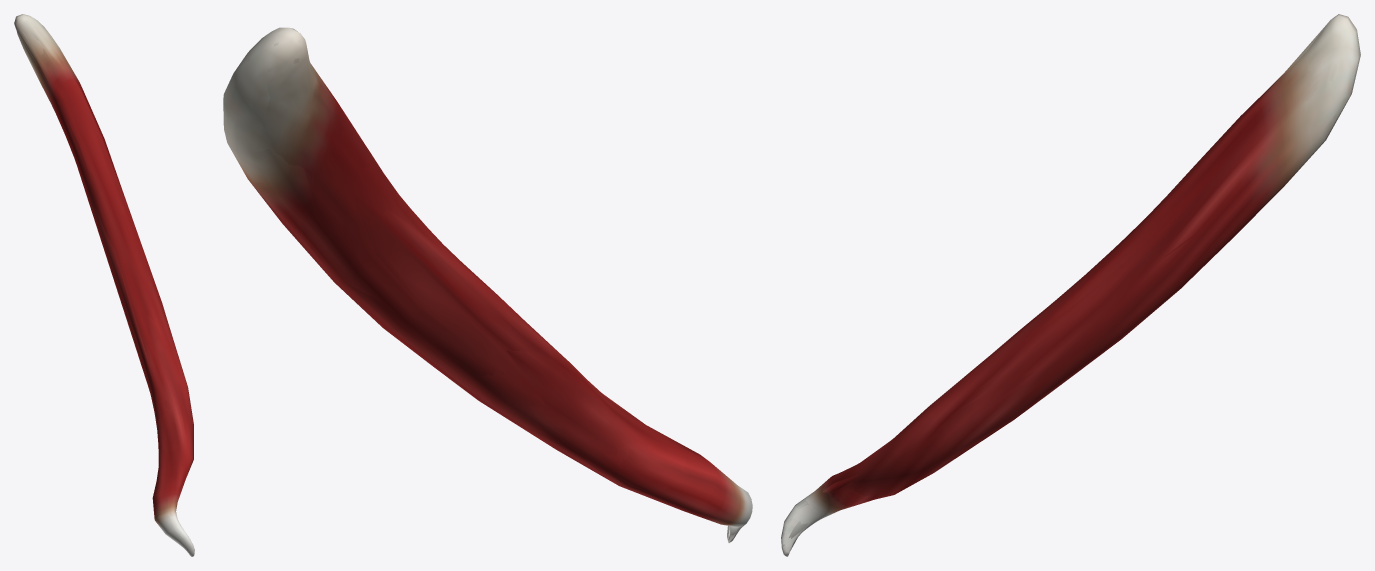
The model's file is L Teres Major.fbx.
The picture shows the model from 3 angles, left to right: view 1: azimuth 30°, elevation 25°; view 2: azimuth 150°, elevation 25°; view 3: azimuth 270°, elevation 25°; orthographic projection. The views are drawn at different scales.
Parts seen in each view (by area): view 1: L Teres Major, L Teres Major low, L Teres Major high; view 2: L Teres Major, L Teres Major low, L Teres Major high; view 3: L Teres Major, L Teres Major low, L Teres Major high.
Boxes of the visible parts, x1=… form: L Teres Major: x1=14, y1=14, x2=194, y2=556; L Teres Major low: x1=14, y1=16, x2=192, y2=545; L Teres Major high: x1=16, y1=18, x2=191, y2=550; L Teres Major: x1=223, y1=27, x2=752, y2=542; L Teres Major low: x1=227, y1=29, x2=745, y2=542; L Teres Major high: x1=225, y1=30, x2=744, y2=538; L Teres Major: x1=781, y1=14, x2=1360, y2=556; L Teres Major low: x1=783, y1=15, x2=1359, y2=550; L Teres Major high: x1=783, y1=17, x2=1353, y2=548.
Size of the model in its own units: 1.38 by 5.7 by 5.36.
Materials: 1 (1 with a texture image).
